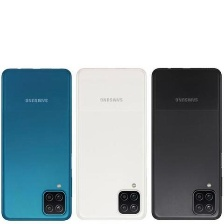phone: (73, 62, 151, 223), (148, 66, 224, 222), (0, 64, 72, 224)
